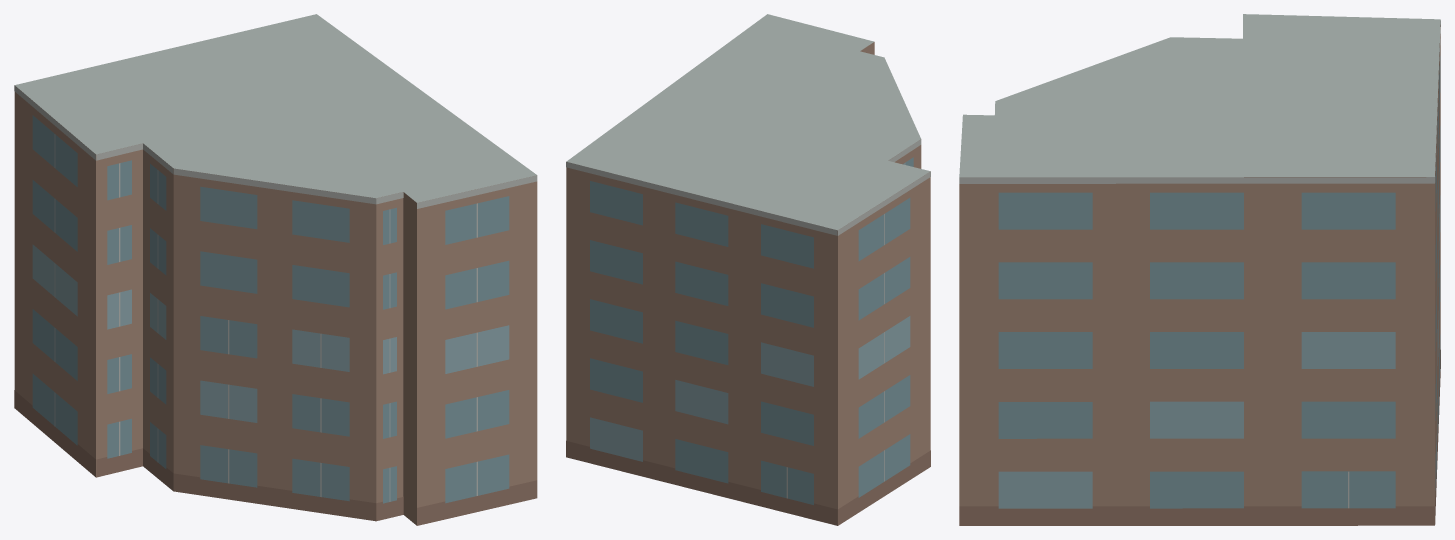
The model's file is survey-upis-33044060.glb.
3 views of the same model, side by side, from view 1: azimuth 30°, elevation 25°; view 2: azimuth 150°, elevation 25°; view 3: azimuth 270°, elevation 25° (orthographic). The views are drawn at different scales.
Visible parts, largest first — view 1: survey-upis-33044060.tmp; view 2: survey-upis-33044060.tmp; view 3: survey-upis-33044060.tmp.
Boxes of the visible parts, x1,y1,x2,y2 form: survey-upis-33044060.tmp: (14,14,537,525); survey-upis-33044060.tmp: (566,14,930,525); survey-upis-33044060.tmp: (959,14,1440,525).
Size of the model in its own units: 12.86 by 12.8 by 16.03.
